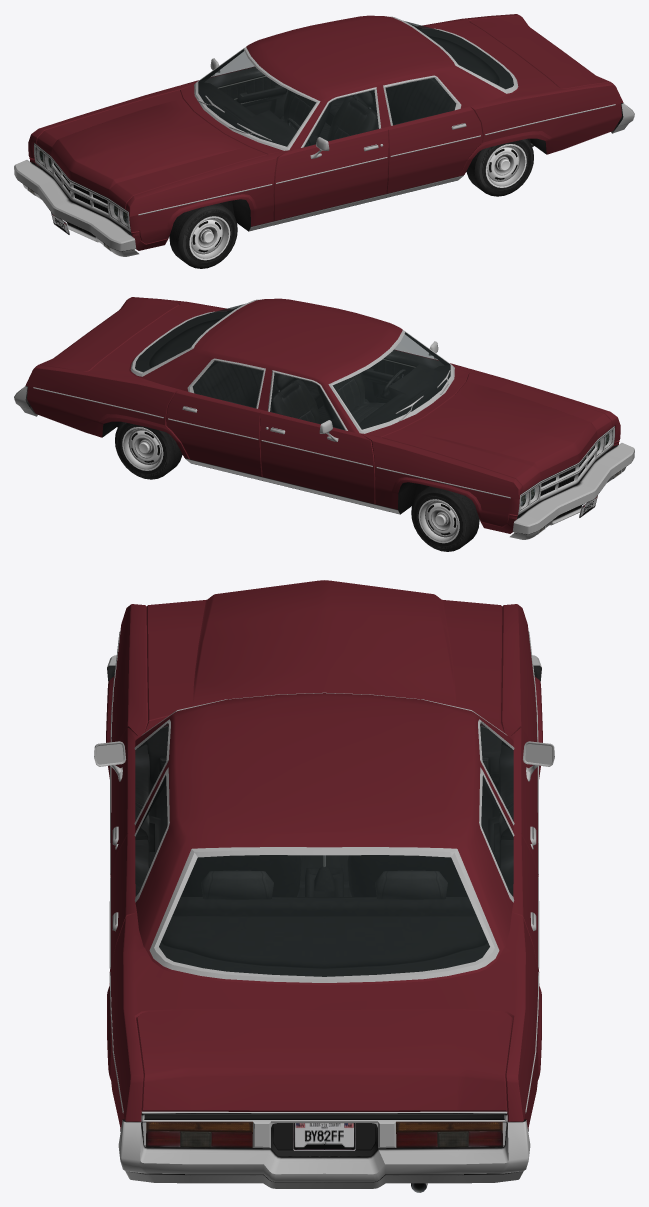
3 views of the same model, one above another, from view 1: azimuth 30°, elevation 25°; view 2: azimuth 150°, elevation 25°; view 3: azimuth 270°, elevation 25° (orthographic). The views are drawn at different scales.
Visible parts, largest first — view 1: Chapman73_Body_Chapman73_Body_0, Chapman73_Hood_Chapman73_Body_0, Chapman73_Interior_GEN4DR_INTERIOR_0, Chapman73_Bottom_UCB_BOTTOM_LT_0, Chapman73_Windshield_UCB_GLASS_CLEAN_0, Chapman73_Glass_Body_UCB_GLASS_CLEAN_0, Chapman73_Trunk_Door_Chapman73_Body_0, Chapman73_Bumper_Front_UCB_BOTTOM_LT_0, Chapman73_Wheel_FL_RB1c_Tire_0, Chapman73_Wheel_RL_RB1c_Tire_0, Chapman73_Glass_Rear_UCB_GLASS_CLEAN_0; view 2: Chapman73_Body_Chapman73_Body_0, Chapman73_Hood_Chapman73_Body_0, Chapman73_Interior_GEN4DR_INTERIOR_0, Chapman73_Bottom_UCB_BOTTOM_LT_0, Chapman73_Windshield_UCB_GLASS_CLEAN_0, Chapman73_Glass_Body_UCB_GLASS_CLEAN_0, Chapman73_Trunk_Door_Chapman73_Body_0, Chapman73_Bumper_Front_UCB_BOTTOM_LT_0, Chapman73_Wheel_FR_RB1c_Tire_0, Chapman73_Wheel_RR_RB1c_Tire_0, Chapman73_Glass_Rear_UCB_GLASS_CLEAN_0; view 3: Chapman73_Body_Chapman73_Body_0, Chapman73_Interior_GEN4DR_INTERIOR_0, Chapman73_Hood_Chapman73_Body_0, Chapman73_Trunk_Door_Chapman73_Body_0, Chapman73_Glass_Rear_UCB_GLASS_CLEAN_0, Chapman73_Bottom_UCB_BOTTOM_LT_0, Chapman73_Bumper_Rear_UCB_BOTTOM_LT_0, Chapman73_Glass_Body_UCB_GLASS_CLEAN_0, Chapman73_Brakelight_glass_Riverside88_lights_0, Chapman73_Blinkers_Riverside88_lights_0, Chapman73_Numberplate_rear_Numberplates_Generic_USA_0, Chapman73_Stoplight_glass_Riverside88_lights_0.
Boxes of the visible parts, <box> form: Chapman73_Body_Chapman73_Body_0: <box>28,14,623,250</box>; Chapman73_Hood_Chapman73_Body_0: <box>36,90,267,209</box>; Chapman73_Interior_GEN4DR_INTERIOR_0: <box>198,24,513,147</box>; Chapman73_Bottom_UCB_BOTTOM_LT_0: <box>30,16,615,235</box>; Chapman73_Windshield_UCB_GLASS_CLEAN_0: <box>198,49,315,146</box>; Chapman73_Glass_Body_UCB_GLASS_CLEAN_0: <box>304,78,455,147</box>; Chapman73_Trunk_Door_Chapman73_Body_0: <box>469,16,610,88</box>; Chapman73_Bumper_Front_UCB_BOTTOM_LT_0: <box>14,160,138,256</box>; Chapman73_Wheel_FL_RB1c_Tire_0: <box>169,203,237,268</box>; Chapman73_Wheel_RL_RB1c_Tire_0: <box>466,139,533,196</box>; Chapman73_Glass_Rear_UCB_GLASS_CLEAN_0: <box>404,21,513,88</box>; Chapman73_Body_Chapman73_Body_0: <box>25,297,620,533</box>; Chapman73_Hood_Chapman73_Body_0: <box>381,373,612,492</box>; Chapman73_Interior_GEN4DR_INTERIOR_0: <box>135,307,450,430</box>; Chapman73_Bottom_UCB_BOTTOM_LT_0: <box>33,299,618,518</box>; Chapman73_Windshield_UCB_GLASS_CLEAN_0: <box>333,332,450,429</box>; Chapman73_Glass_Body_UCB_GLASS_CLEAN_0: <box>193,361,344,430</box>; Chapman73_Trunk_Door_Chapman73_Body_0: <box>38,299,179,371</box>; Chapman73_Bumper_Front_UCB_BOTTOM_LT_0: <box>510,443,634,539</box>; Chapman73_Wheel_FR_RB1c_Tire_0: <box>411,486,479,551</box>; Chapman73_Wheel_RR_RB1c_Tire_0: <box>115,422,182,479</box>; Chapman73_Glass_Rear_UCB_GLASS_CLEAN_0: <box>135,304,244,371</box>; Chapman73_Body_Chapman73_Body_0: <box>106,604,542,1129</box>; Chapman73_Interior_GEN4DR_INTERIOR_0: <box>135,726,513,976</box>; Chapman73_Hood_Chapman73_Body_0: <box>146,580,502,721</box>; Chapman73_Trunk_Door_Chapman73_Body_0: <box>136,1010,512,1111</box>; Chapman73_Glass_Rear_UCB_GLASS_CLEAN_0: <box>159,855,489,976</box>; Chapman73_Bottom_UCB_BOTTOM_LT_0: <box>94,631,554,1192</box>; Chapman73_Bumper_Rear_UCB_BOTTOM_LT_0: <box>118,1119,530,1188</box>; Chapman73_Glass_Body_UCB_GLASS_CLEAN_0: <box>135,723,513,895</box>; Chapman73_Brakelight_glass_Riverside88_lights_0: <box>145,1130,503,1147</box>; Chapman73_Blinkers_Riverside88_lights_0: <box>146,1121,502,1132</box>; Chapman73_Numberplate_rear_Numberplates_Generic_USA_0: <box>293,1123,355,1150</box>; Chapman73_Stoplight_glass_Riverside88_lights_0: <box>180,1131,468,1147</box>.
Bounding box in the file's own units: 5.66 × 1.39 × 2.12.
7 materials, 6 textured.
